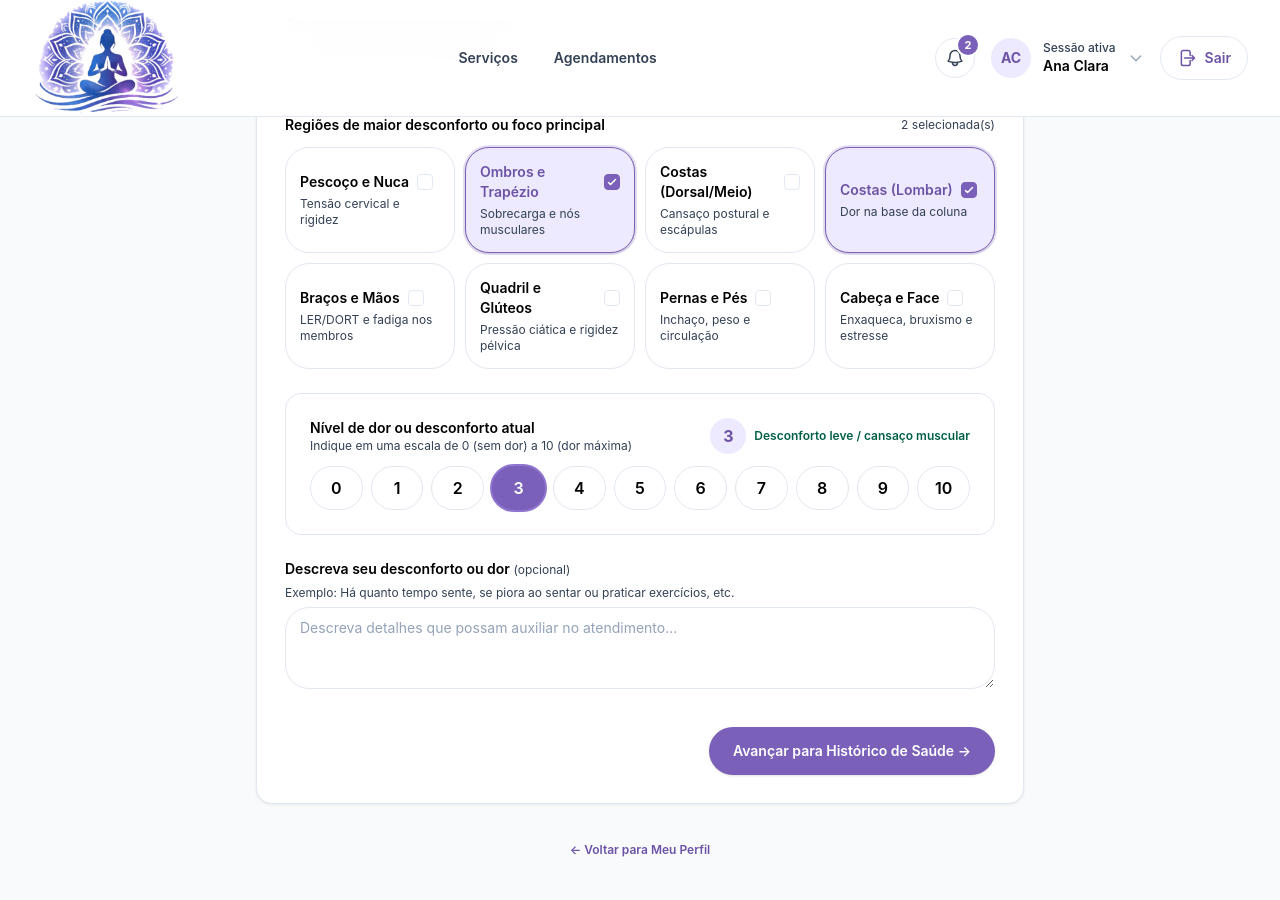
Scenario: FichaAnamnesePage › permite navegar entre as seções usando os botões e os indicadores de etapa
(page scrolled)
Click the button "Avançar para Histórico de Saúde →".
click(852, 751)  # box [709,727,995,775]
(page scrolled)
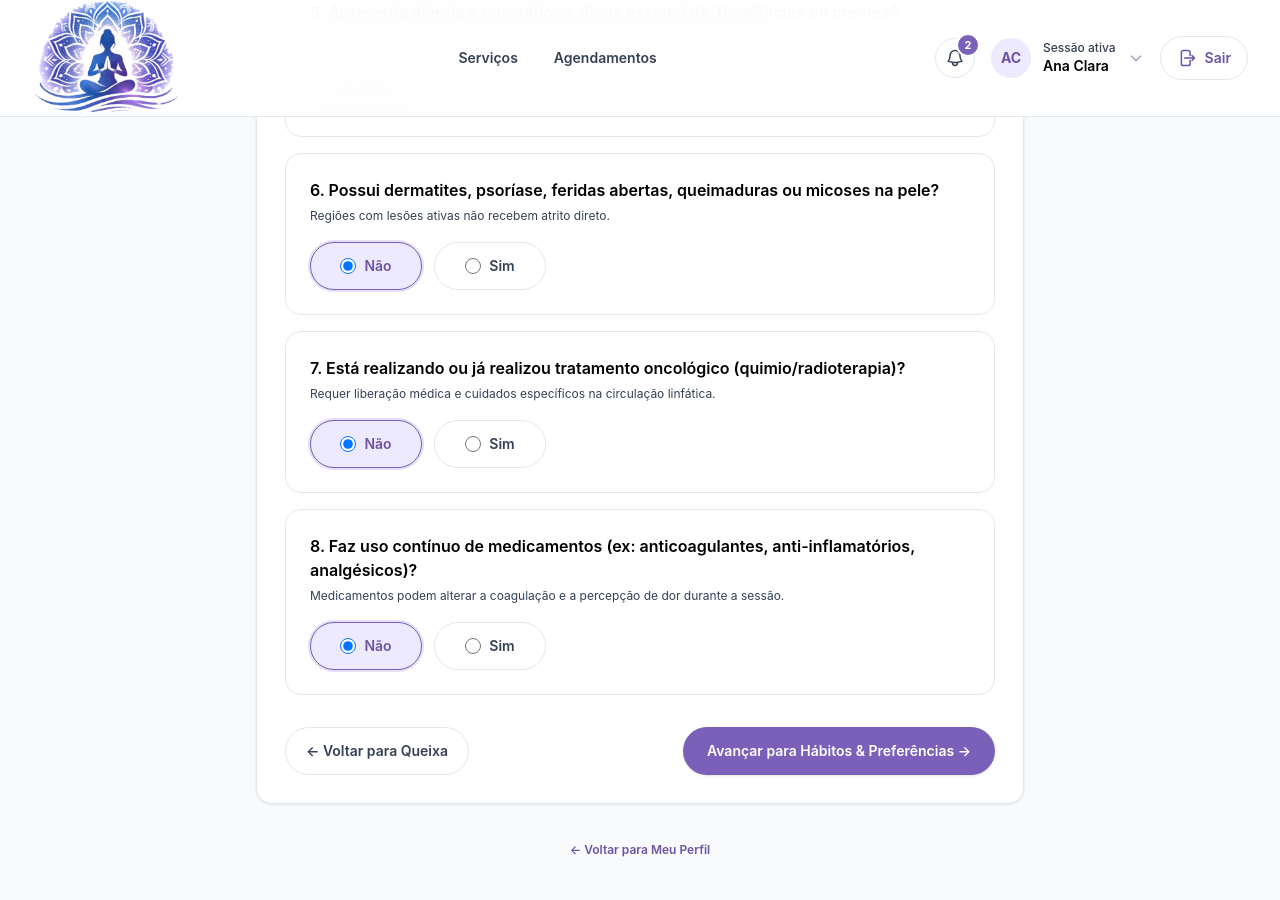
Click the button "Avançar para Hábitos & Preferências →".
click(839, 751)  # box [683,727,995,775]
(page scrolled)
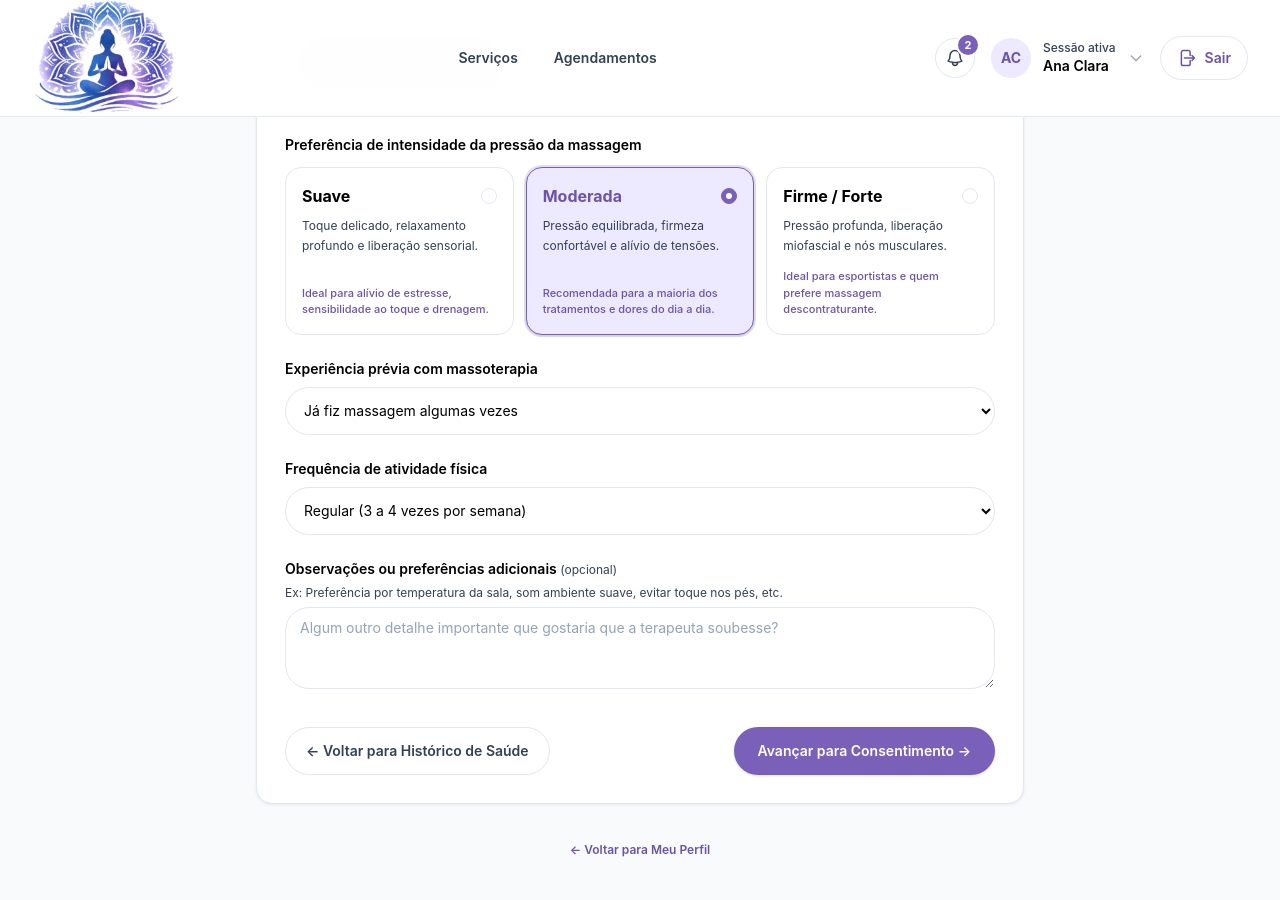
Check: the heading "3. Preferências e Hábitos" is shown, box [285,45,504,66]
# Avança para etapa 4
Click the button "Avançar para Consentimento →".
click(864, 751)  # box [734,727,995,775]
(page scrolled)
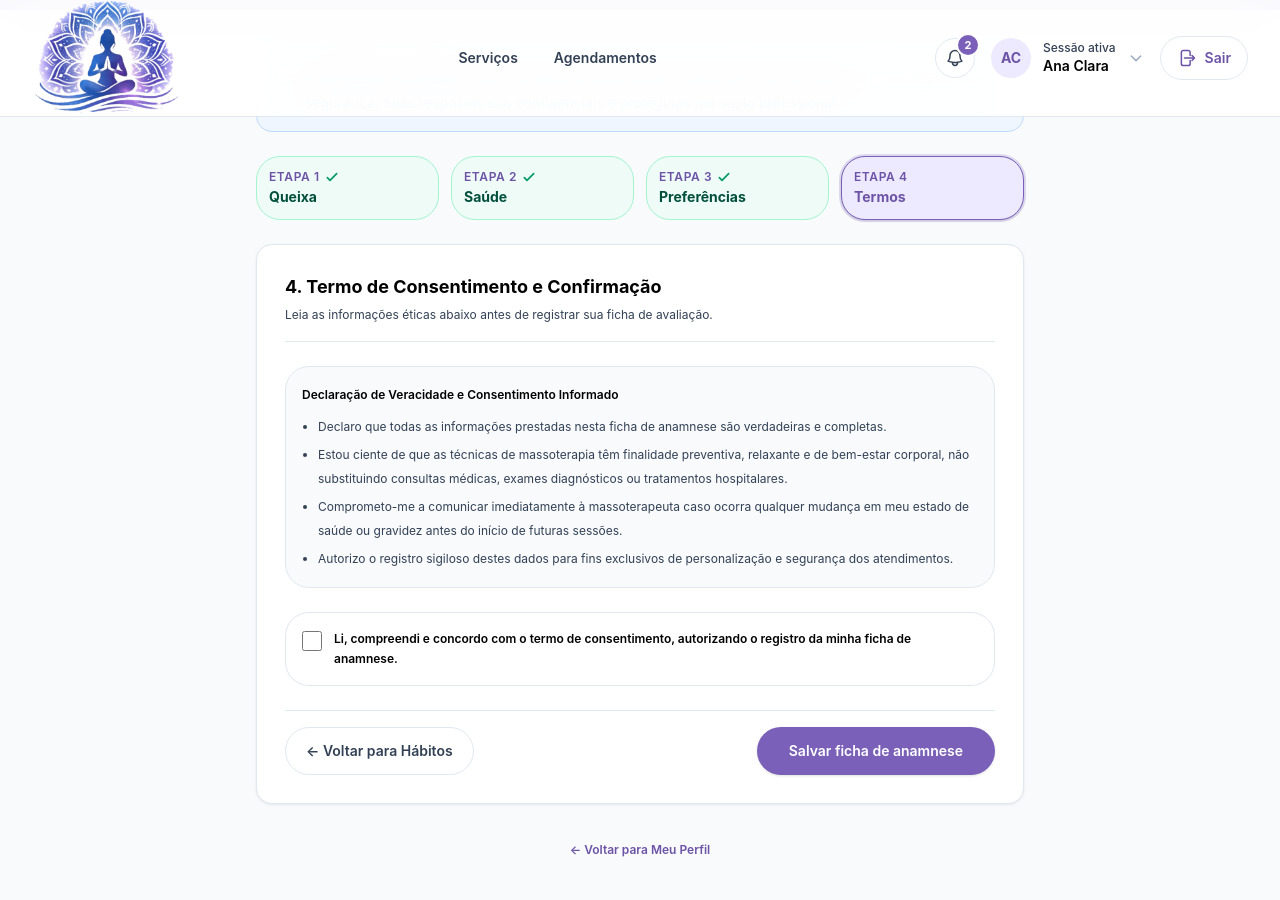
Check: the heading "4. Termo de Consentimento e Confirmação" is shown, box [285,276,662,297]
# Volta para etapa 1 pelo indicador de passos
Click the button "Etapa 1 Queixa".
click(348, 188)  # box [256,156,439,220]
(page scrolled)
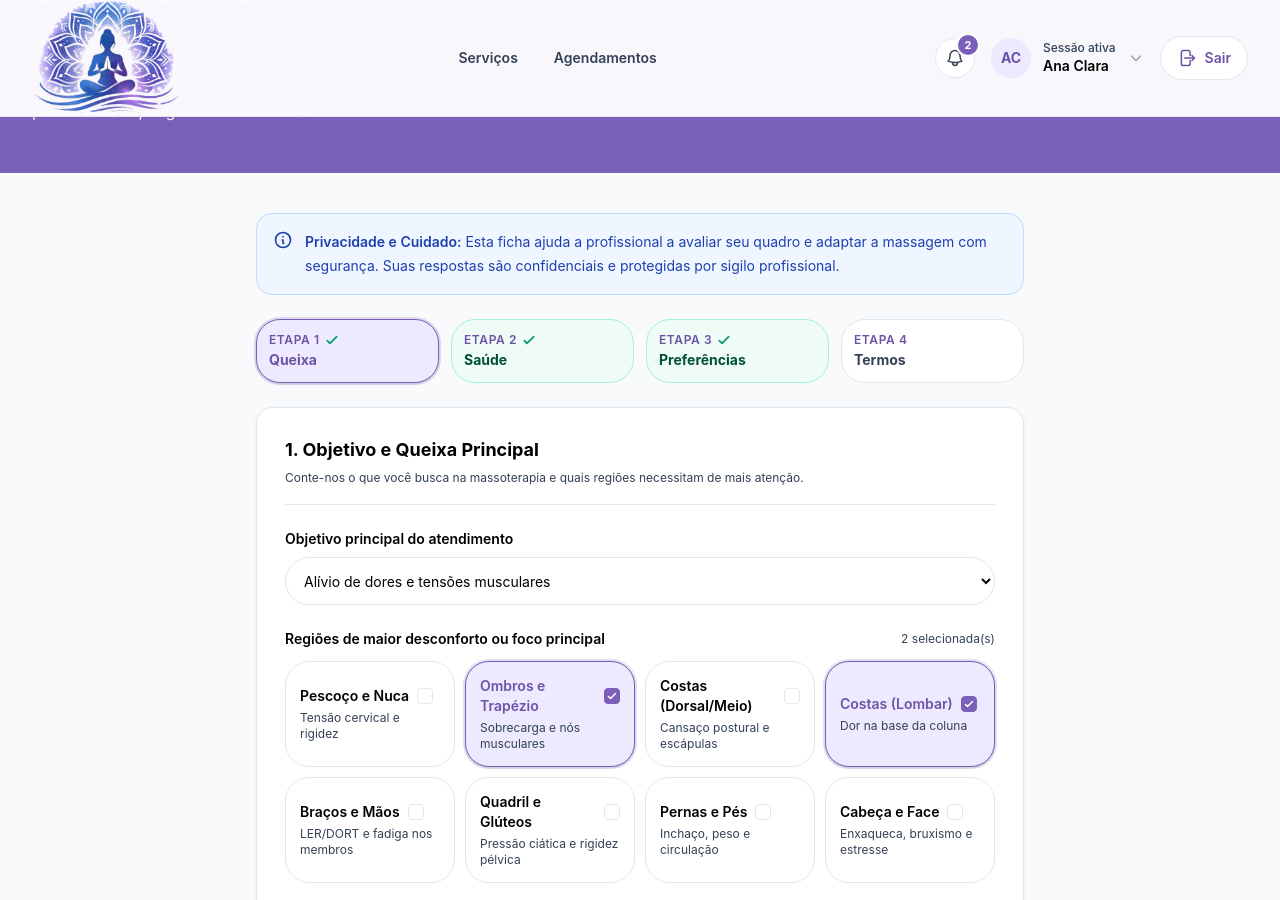
Check: the heading "1. Objetivo e Queixa Principal" is shown, box [285,439,539,460]
